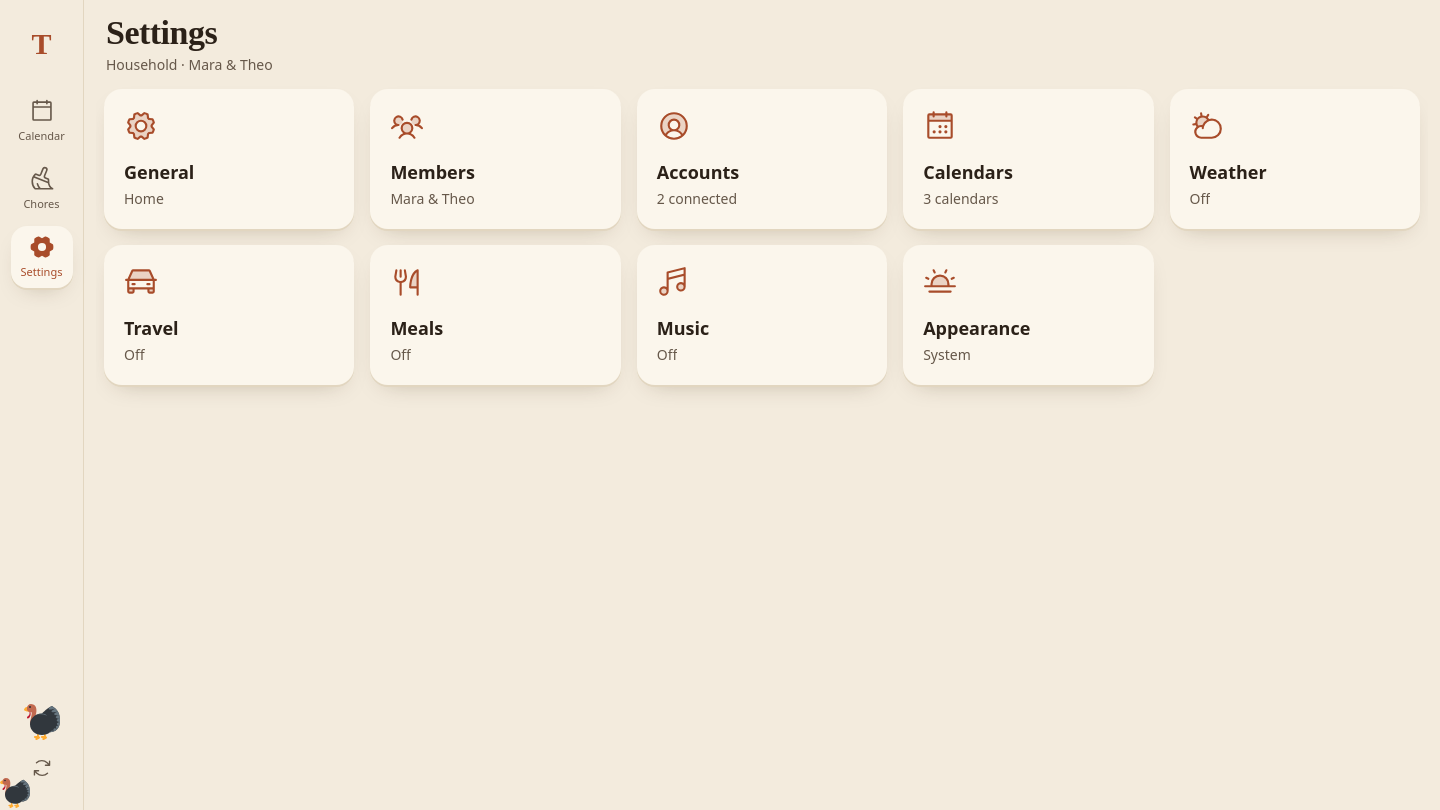
Scenario: Settings: accounts and calendars › lists accounts with status badges and last errors
Click the button "Accounts 2 connected": (762, 159) [637, 89, 887, 229]
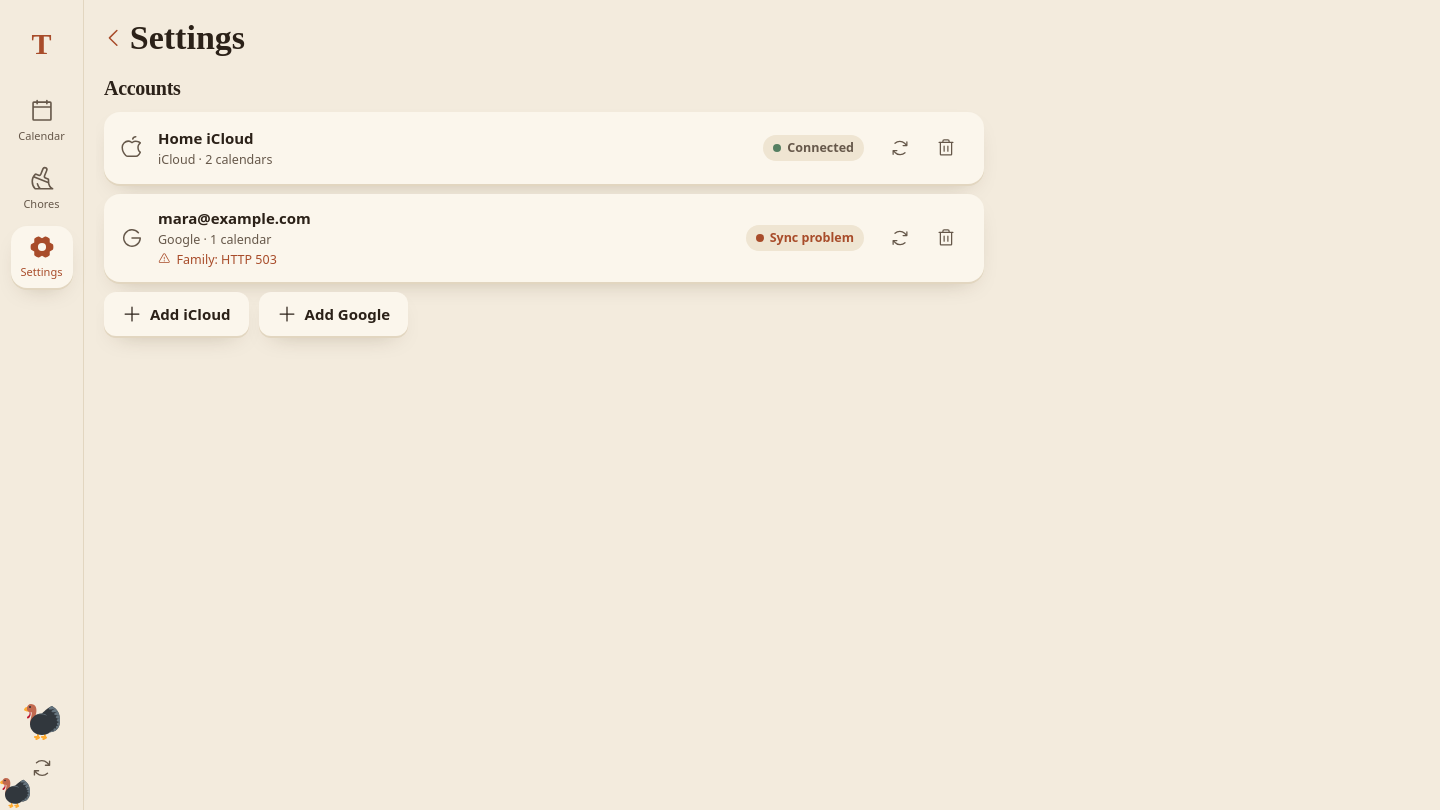
Check: the text "Home iCloud" is shown, box [158, 128, 254, 148]
Check: the text "Sync problem" is shown, box [746, 225, 864, 251]
Check: the text "Family: HTTP 503" is shown, box [176, 250, 277, 268]
